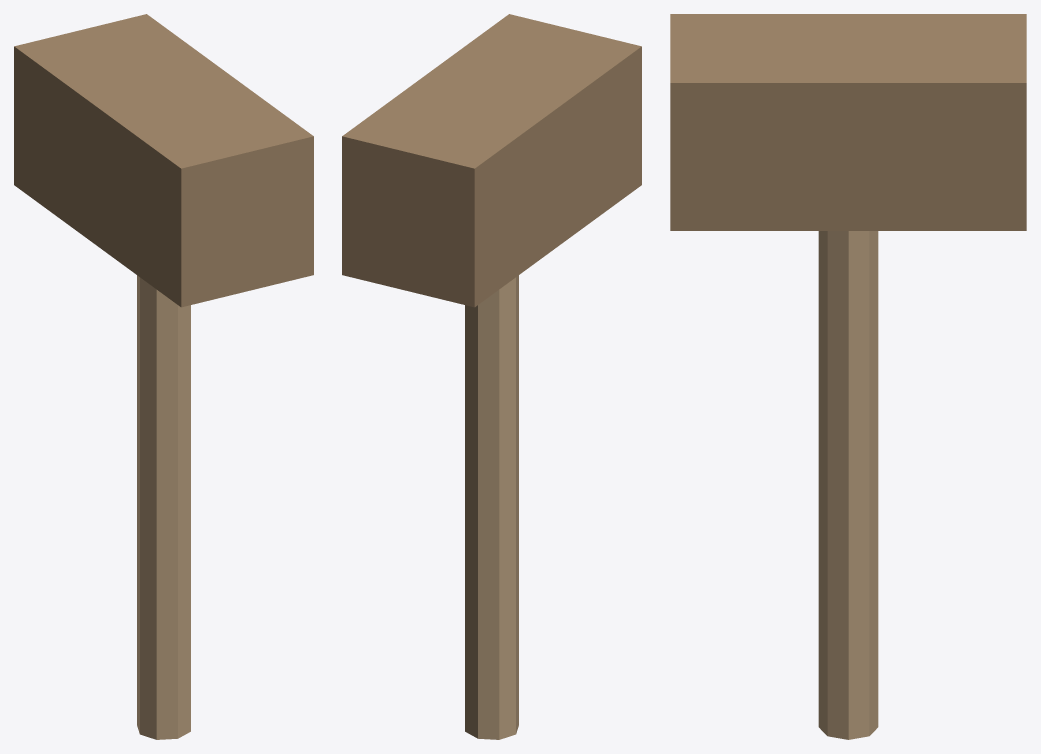
The model's file is WPN_Mallet.glb.
3 views of the same model, side by side, from view 1: azimuth 30°, elevation 25°; view 2: azimuth 150°, elevation 25°; view 3: azimuth 270°, elevation 25° (orthographic). The views are drawn at different scales.
Visible parts, largest first — view 1: Mallet_1, Mallet_0; view 2: Mallet_1, Mallet_0; view 3: Mallet_1, Mallet_0.
Boxes of the visible parts, x1,y1,x2,y2 form: Mallet_1: (14,14,313,307); Mallet_0: (137,275,190,739); Mallet_1: (342,14,641,307); Mallet_0: (465,275,518,739); Mallet_1: (670,14,1026,230); Mallet_0: (818,231,878,739).
Bounding box in the file's own units: 0.11 × 0.505 × 0.24.
